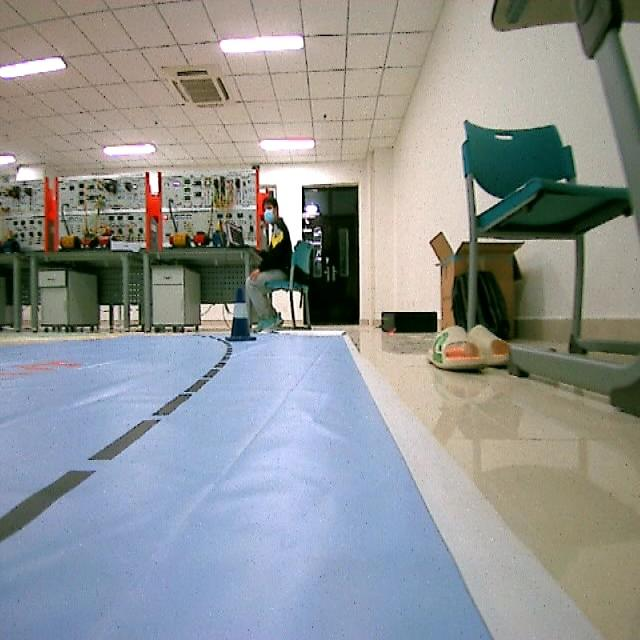obstacle: (228, 285, 256, 345)
